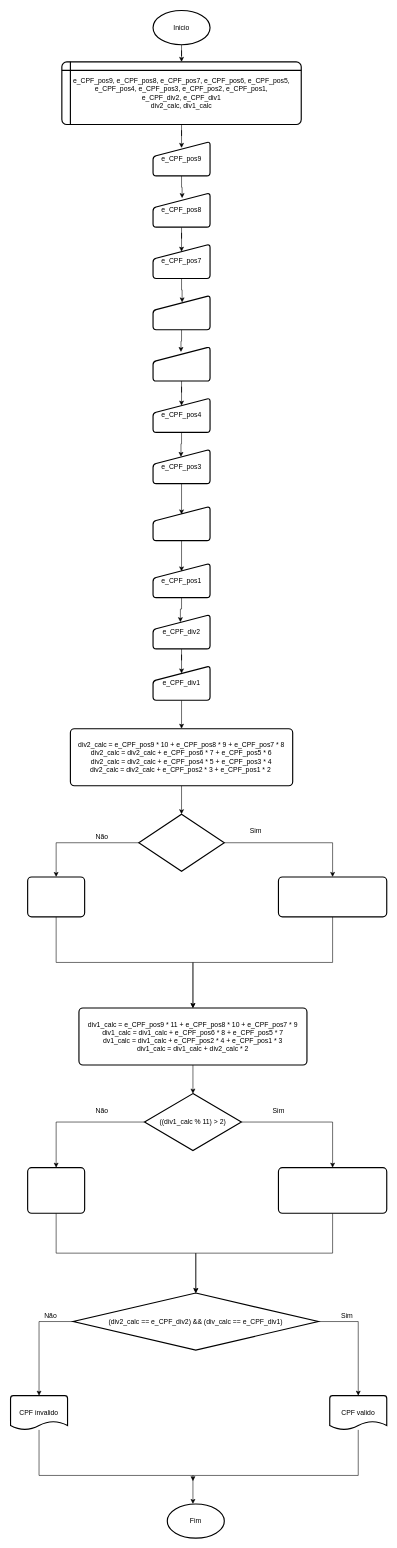
Some shapes in this 397 by 1548 pixel diagram are drawn without their labels. Here are the shapes that lost their labels. From the top down, the centre of each, then its label:
(181,312): e_CPF_pos6
(181,363): e_CPF_pos5
(181,523): e_CPF_pos2
(181,842): ((div2_calc % 11) > 2)
(56,896): div2_calc = 0
(332,896): div2_calc = 11 - (div2_calc % 11)
(56,1190): div1_calc = 0
(332,1190): div1_calc = 11 - ( div1_calc % 11 )
